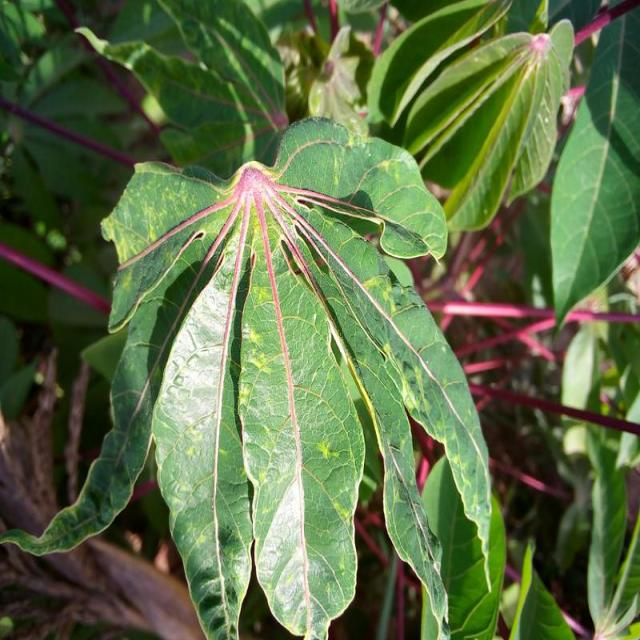cassava leaf: (1, 113, 498, 638)
